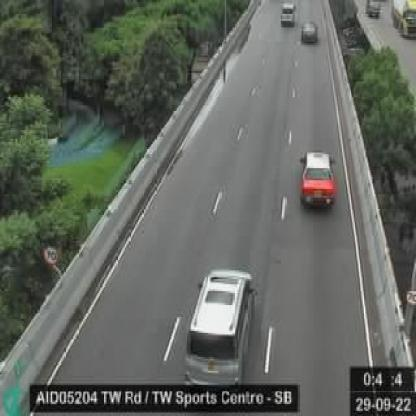Car: (177, 260, 260, 390), (291, 140, 345, 217), (298, 16, 324, 45), (278, 0, 296, 29)
